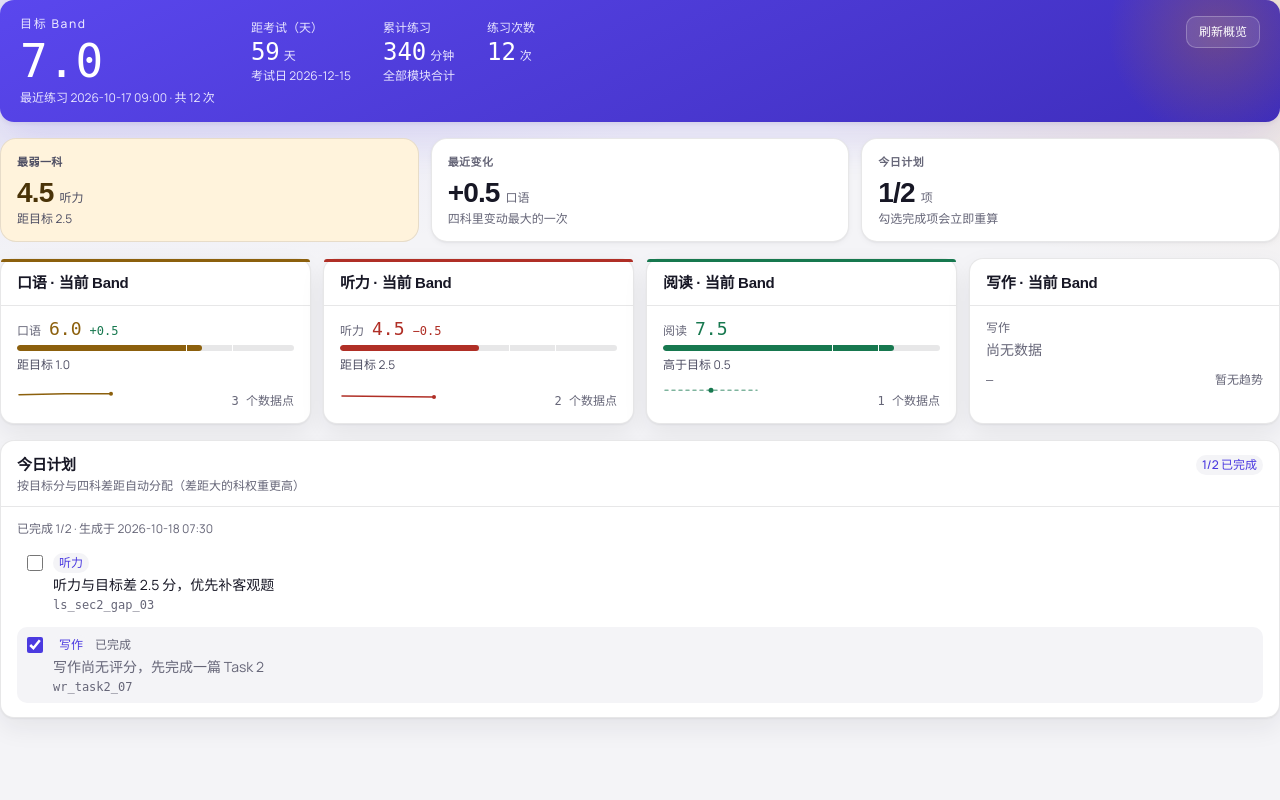
Dashboard 概览页 › 勾选今日任务：POST 带对的 task id，完成后徽标变成 2/2（AC-P2）
The width and height of the screenshot is (1280, 800).
Expected: the checkbox labelled "写作 已完成 写作尚无评分，先完成一篇 Task 2 wr_task2_07" is checked, 27,637 -> 43,653
Click the checkbox labelled "听力 听力与目标差 2.5 分，优先补客观题 ls_sec2_gap_03" at (35, 563), box 27,555 -> 43,571
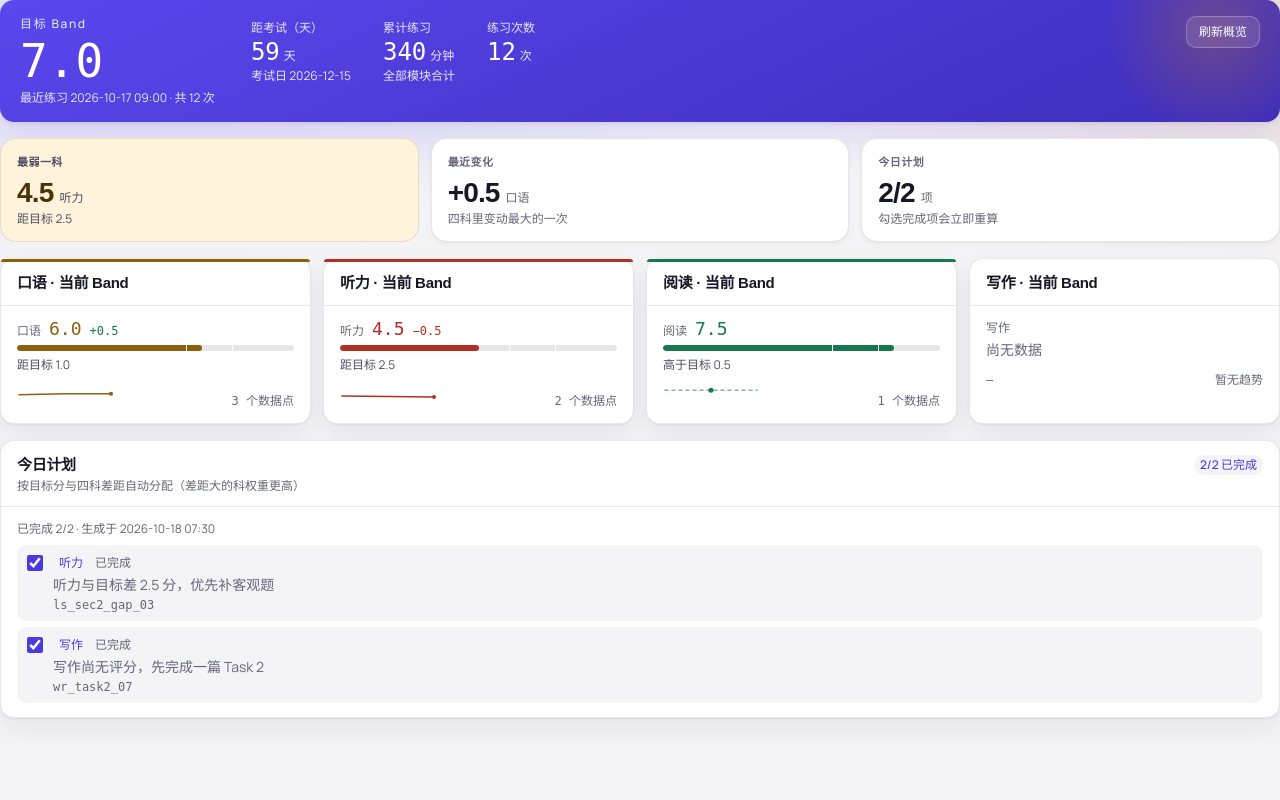
Now the checkbox labelled "听力 已完成 听力与目标差 2.5 分，优先补客观题 ls_sec2_gap_03" is checked, box 27,555 -> 43,571
Now the text "已完成 2/2 · 生成于 2026-10-18 07:30" is shown, box 17,520 -> 215,537
